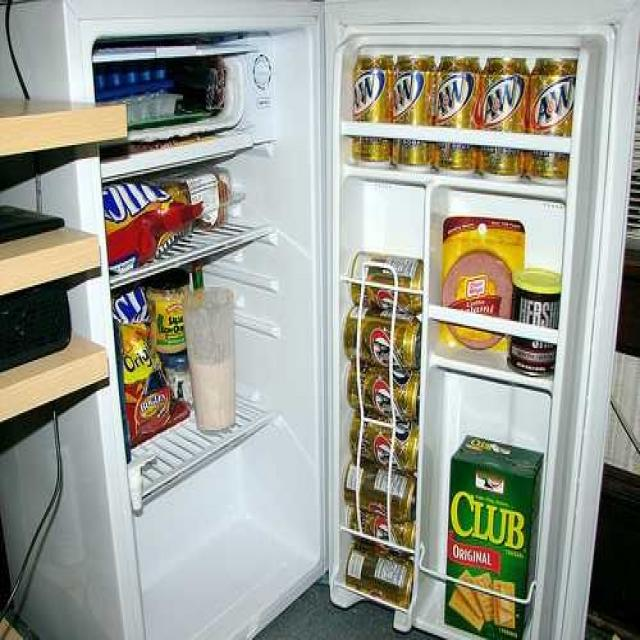refrigerator: (106, 31, 634, 634)
